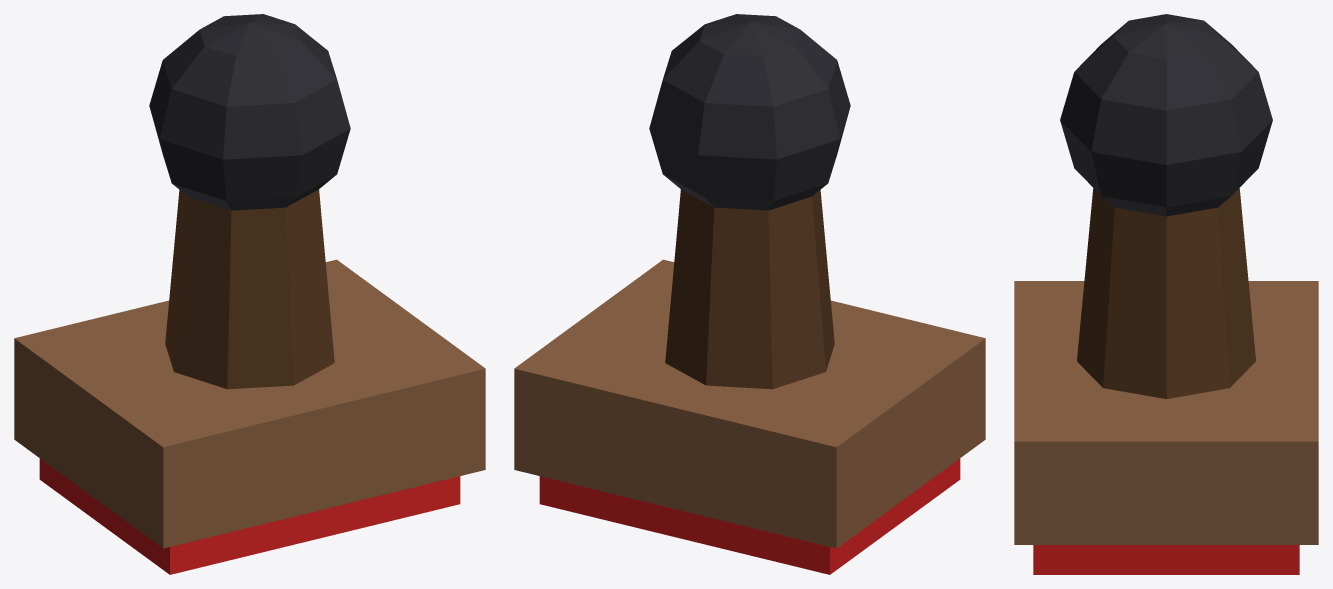
The model's file is original_stamp.glb.
3 views of the same model, side by side, from view 1: azimuth 30°, elevation 25°; view 2: azimuth 150°, elevation 25°; view 3: azimuth 270°, elevation 25° (orthographic). The views are drawn at different scales.
Visible parts, largest first — view 1: base_stamp_wood, knob_stamp_knob, handle_stamp_handle, rubber_stamp_red; view 2: base_stamp_wood, knob_stamp_knob, handle_stamp_handle, rubber_stamp_red; view 3: base_stamp_wood, knob_stamp_knob, handle_stamp_handle, rubber_stamp_red.
Part boxes in pixels (<box>): base_stamp_wood: <box>14,259,485,548</box>; knob_stamp_knob: <box>149,14,350,210</box>; handle_stamp_handle: <box>165,189,334,389</box>; rubber_stamp_red: <box>39,458,460,574</box>; base_stamp_wood: <box>514,259,985,548</box>; knob_stamp_knob: <box>649,14,850,210</box>; handle_stamp_handle: <box>665,189,834,389</box>; rubber_stamp_red: <box>539,458,960,574</box>; base_stamp_wood: <box>1014,281,1318,544</box>; knob_stamp_knob: <box>1060,14,1272,216</box>; handle_stamp_handle: <box>1077,188,1255,399</box>; rubber_stamp_red: <box>1033,545,1299,574</box>.
Bounding box in the file's own units: 0.1 × 0.139 × 0.08.
